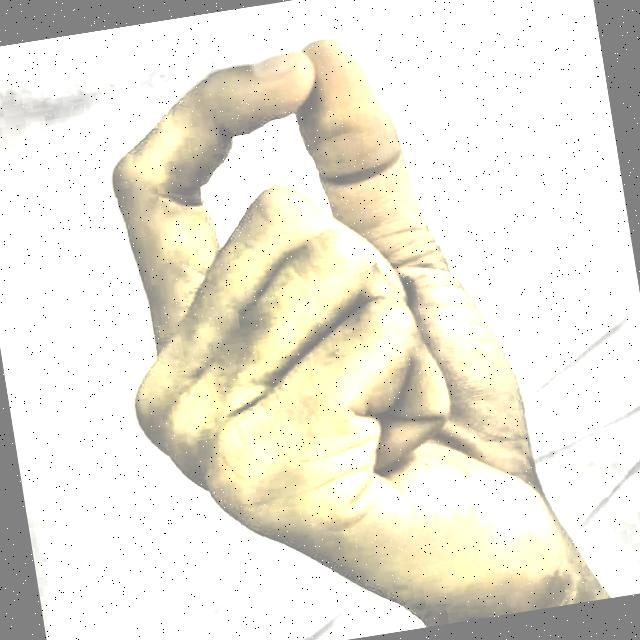Gha: (40, 0, 637, 640)
